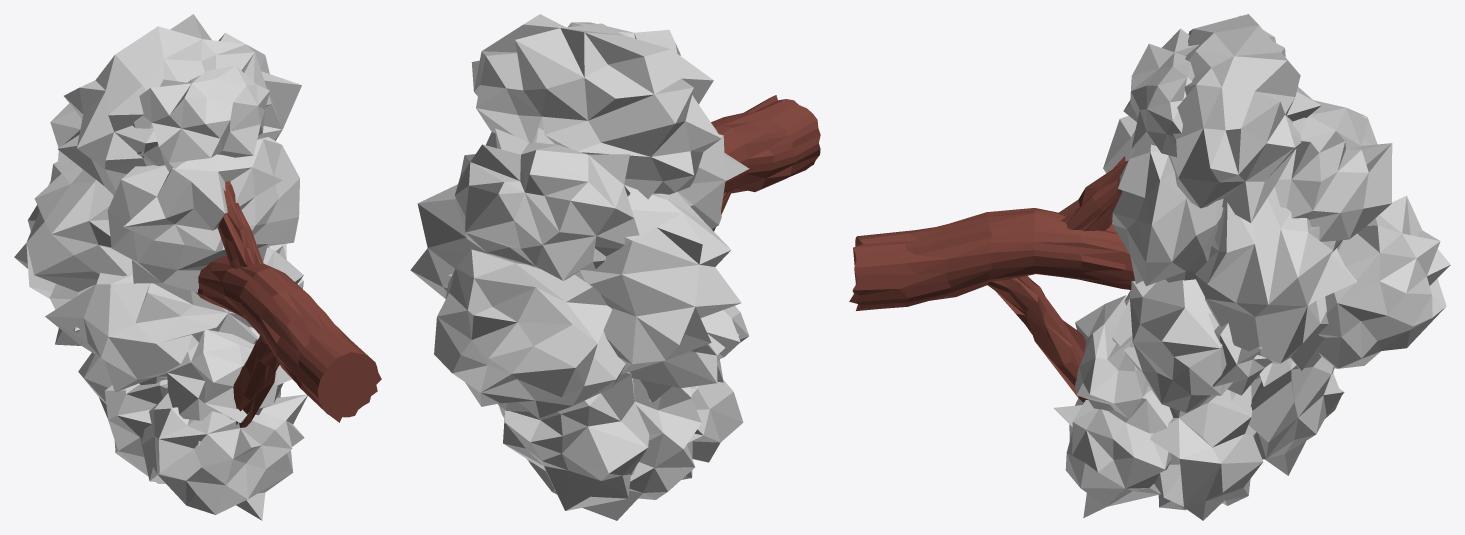
File: green_tree.fbx
3 views of the same model, side by side, from view 1: azimuth 30°, elevation 25°; view 2: azimuth 150°, elevation 25°; view 3: azimuth 270°, elevation 25° (orthographic). The views are drawn at different scales.
Parts seen in each view (by area): view 1: Cylinder; view 2: Cylinder; view 3: Cylinder.
Part boxes in pixels (<box>): Cylinder: <box>14,14,381,520</box>; Cylinder: <box>410,14,820,520</box>; Cylinder: <box>849,14,1450,520</box>.
Bounding box in the file's own units: 9.1 × 14.44 × 16.38.
